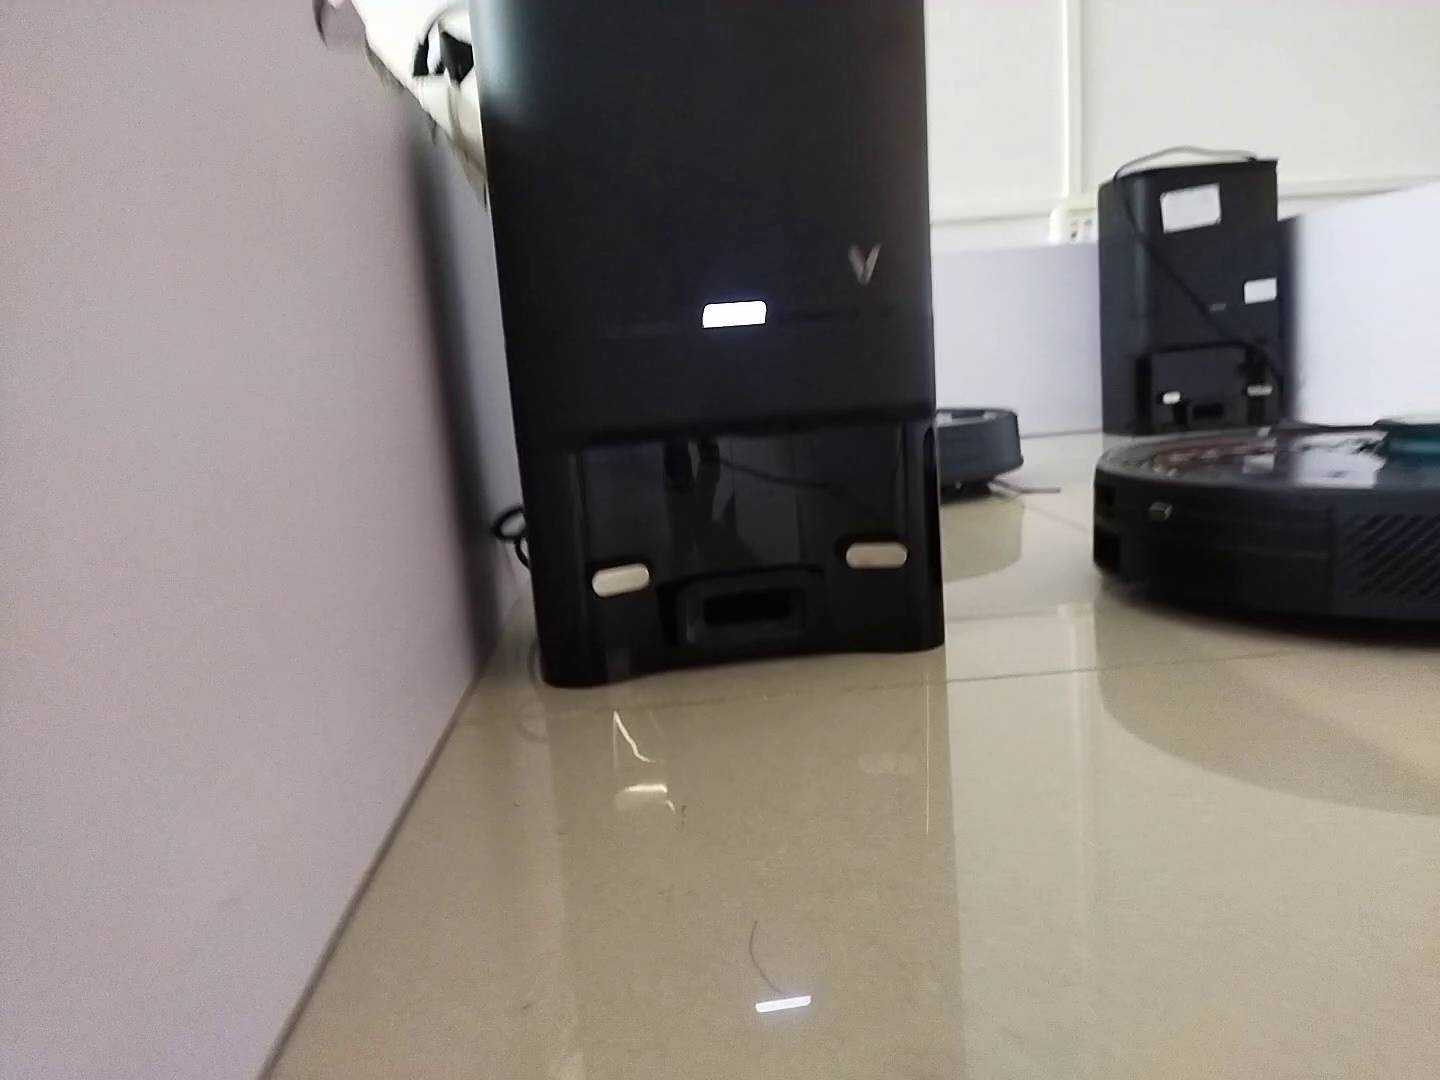dust collecting barrel: (467, 1, 947, 687), (1099, 157, 1285, 439)
